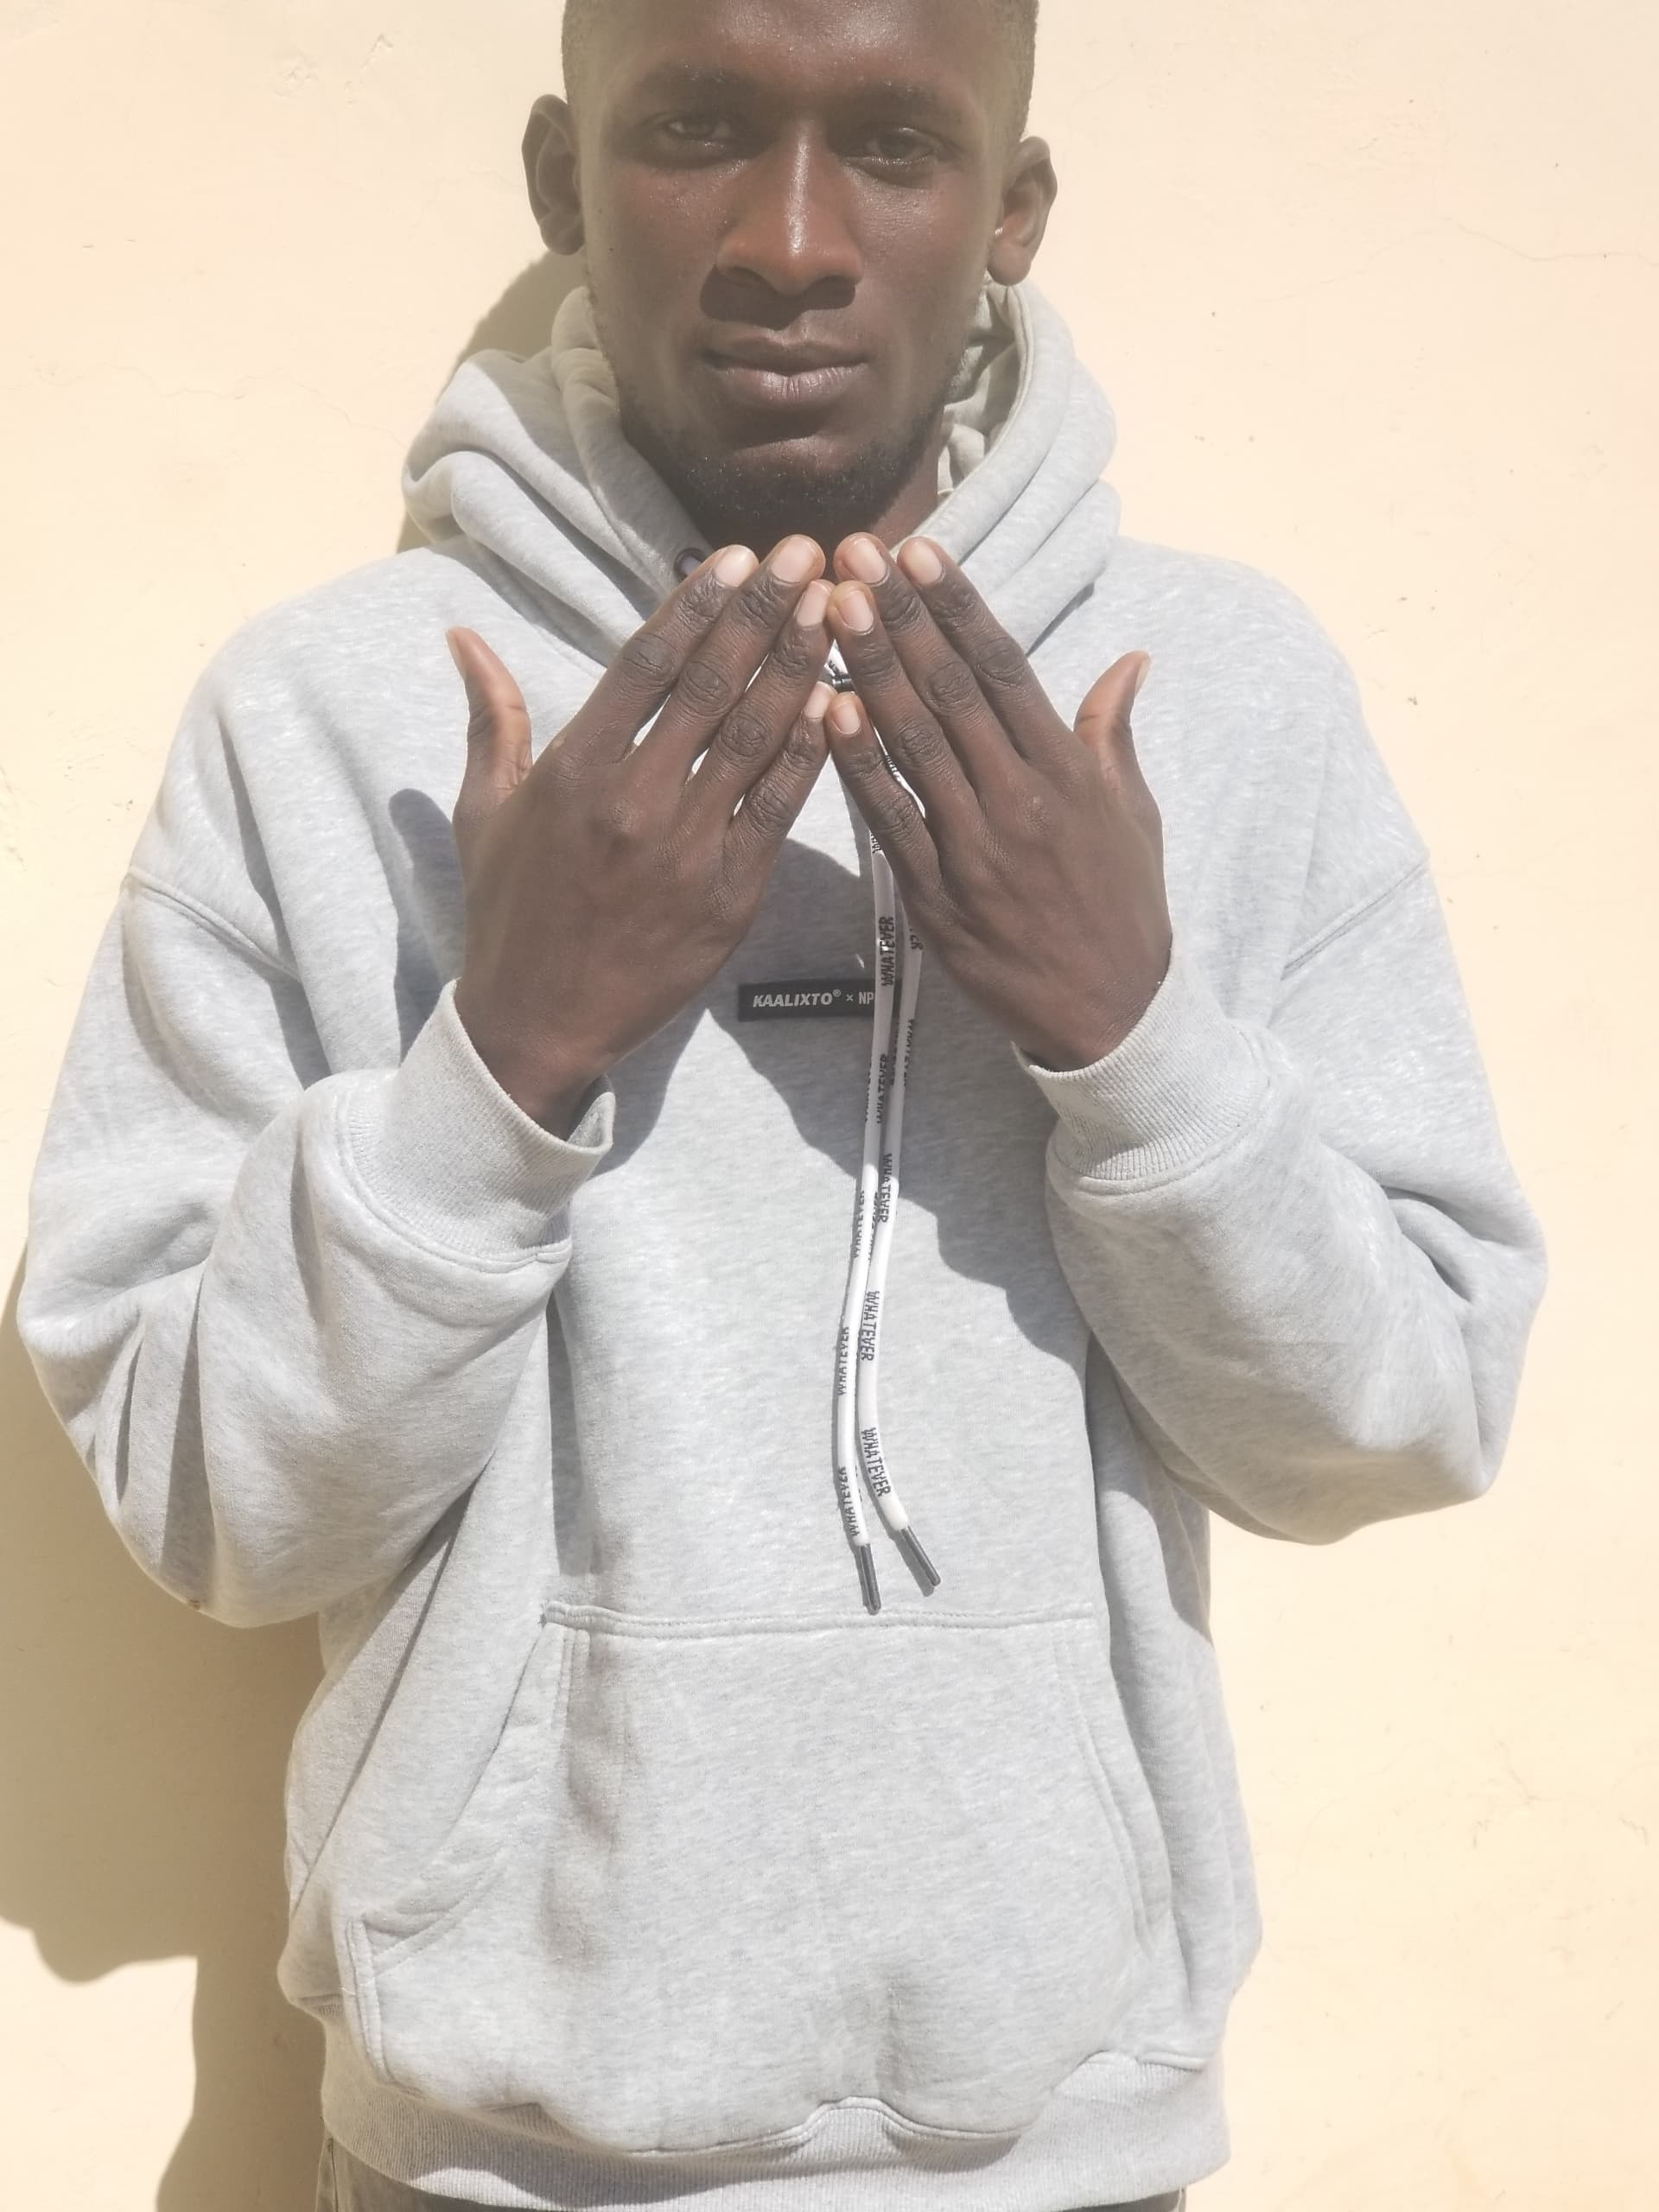thankyou: (345, 489, 1286, 1224)
